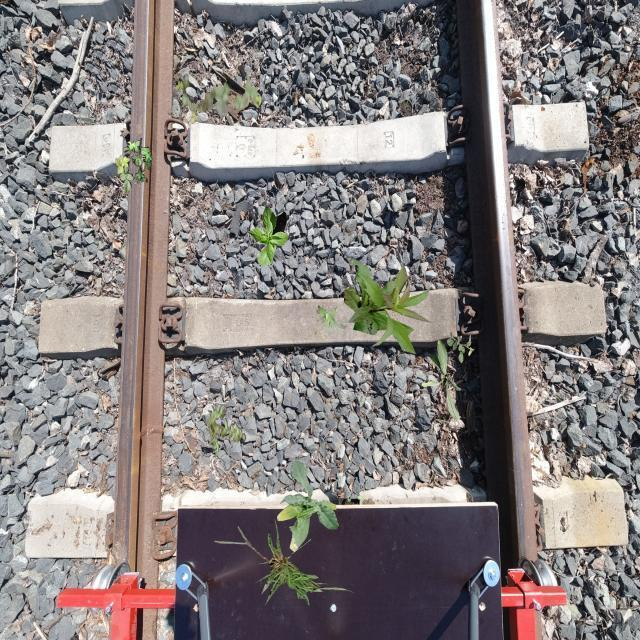Plant: (214, 518, 358, 608), (344, 257, 432, 354), (277, 459, 340, 552), (176, 73, 262, 124), (422, 339, 462, 422), (247, 206, 289, 266), (205, 404, 246, 458), (115, 138, 152, 193), (315, 305, 348, 340), (447, 333, 474, 364)
